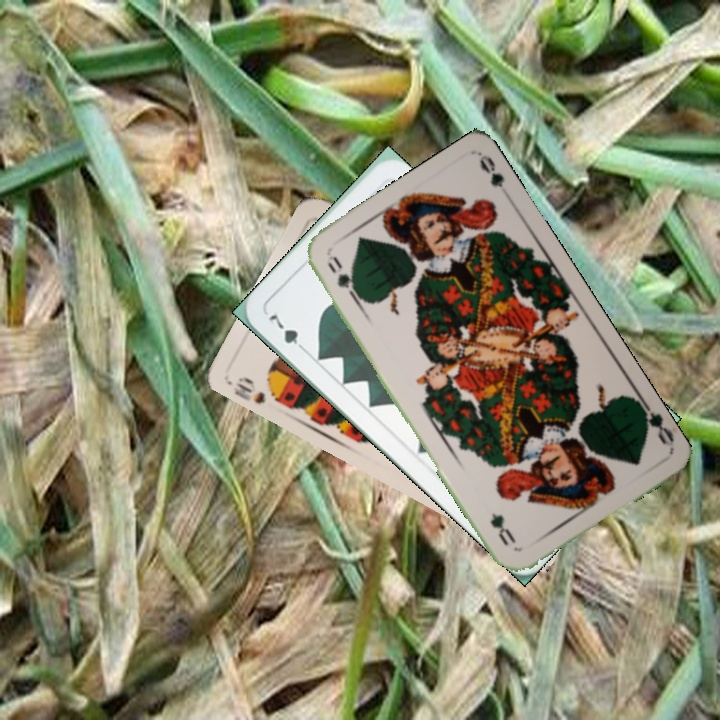G7: (264, 310, 310, 356)
GO: (323, 251, 364, 306), (635, 396, 677, 449)
S10: (229, 372, 284, 407)
